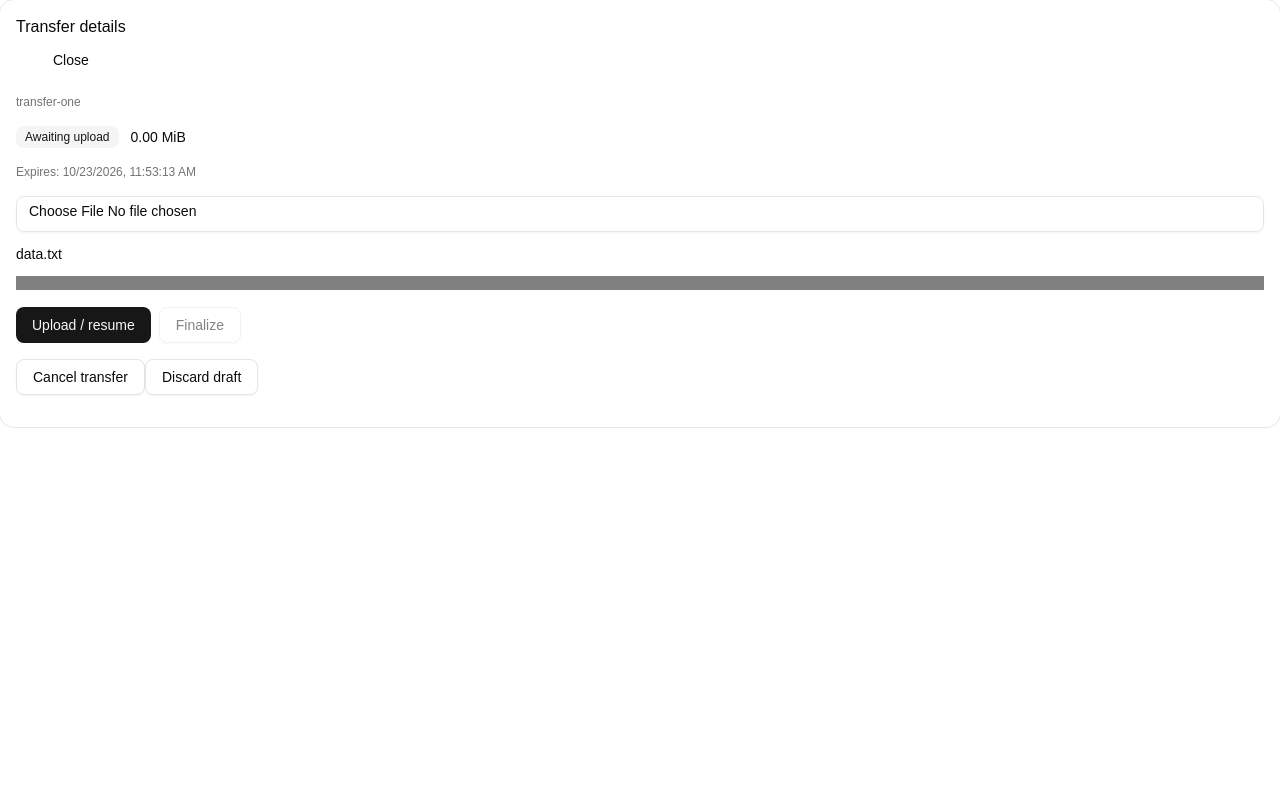
Test: pauses locally without canceling the durable transfer or finalizing it
Click the button "Upload / resume" at (83, 325), box [16, 307, 151, 343]
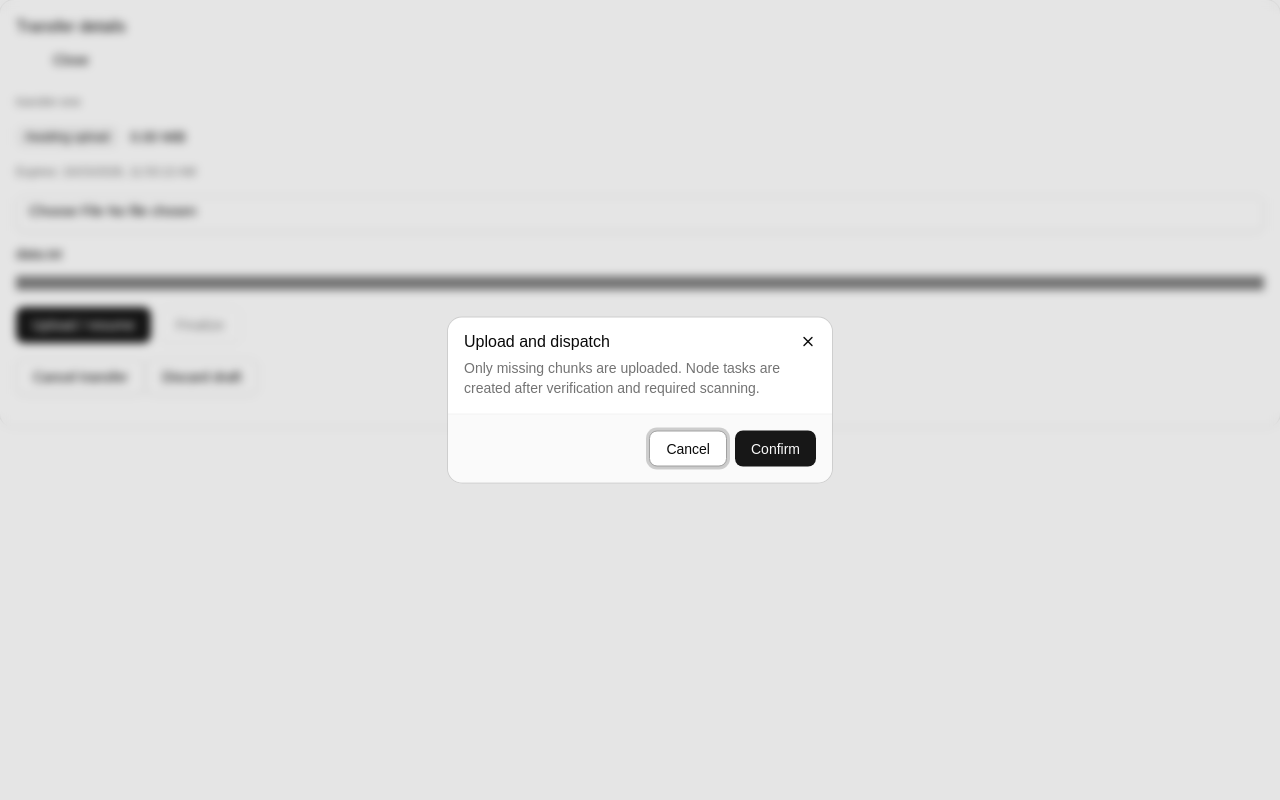
Click the button "Confirm" at (776, 448), box [735, 430, 816, 466]
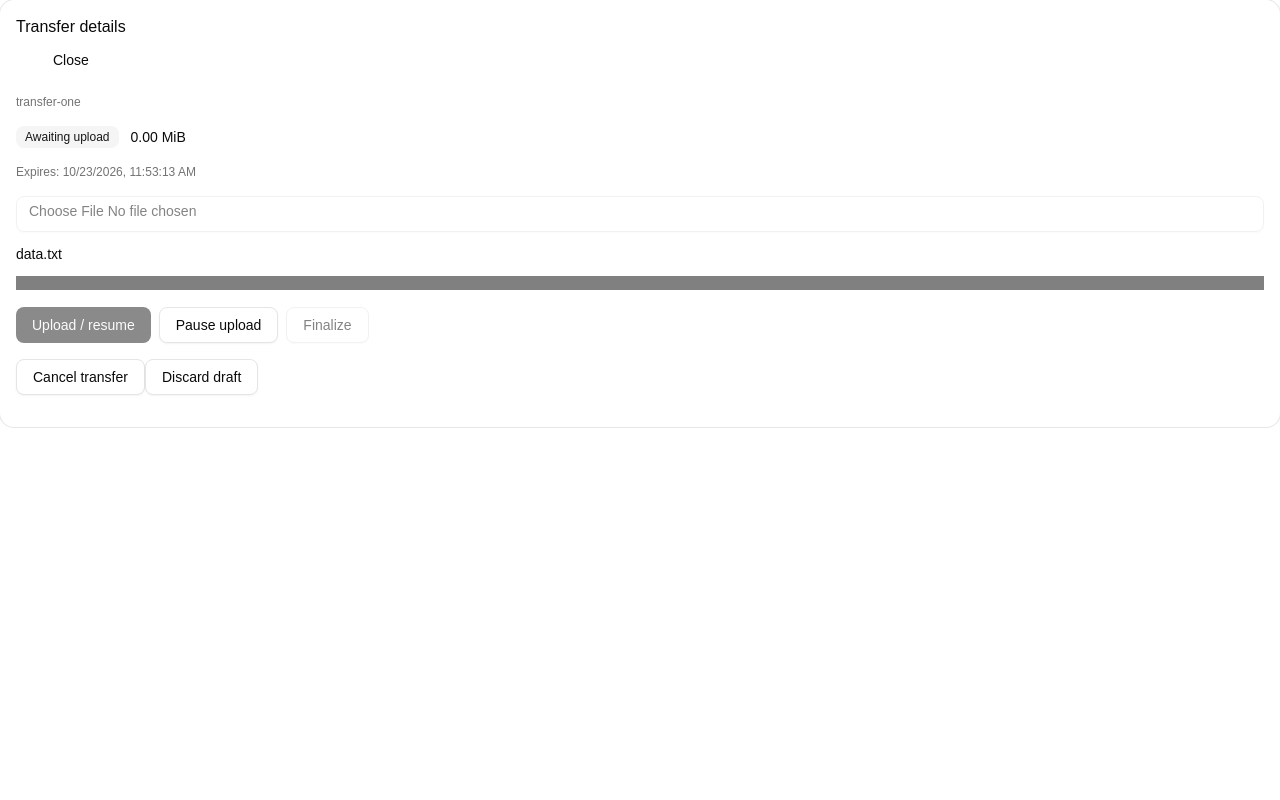
Click the button "Pause upload" at (218, 325), box [159, 307, 278, 343]
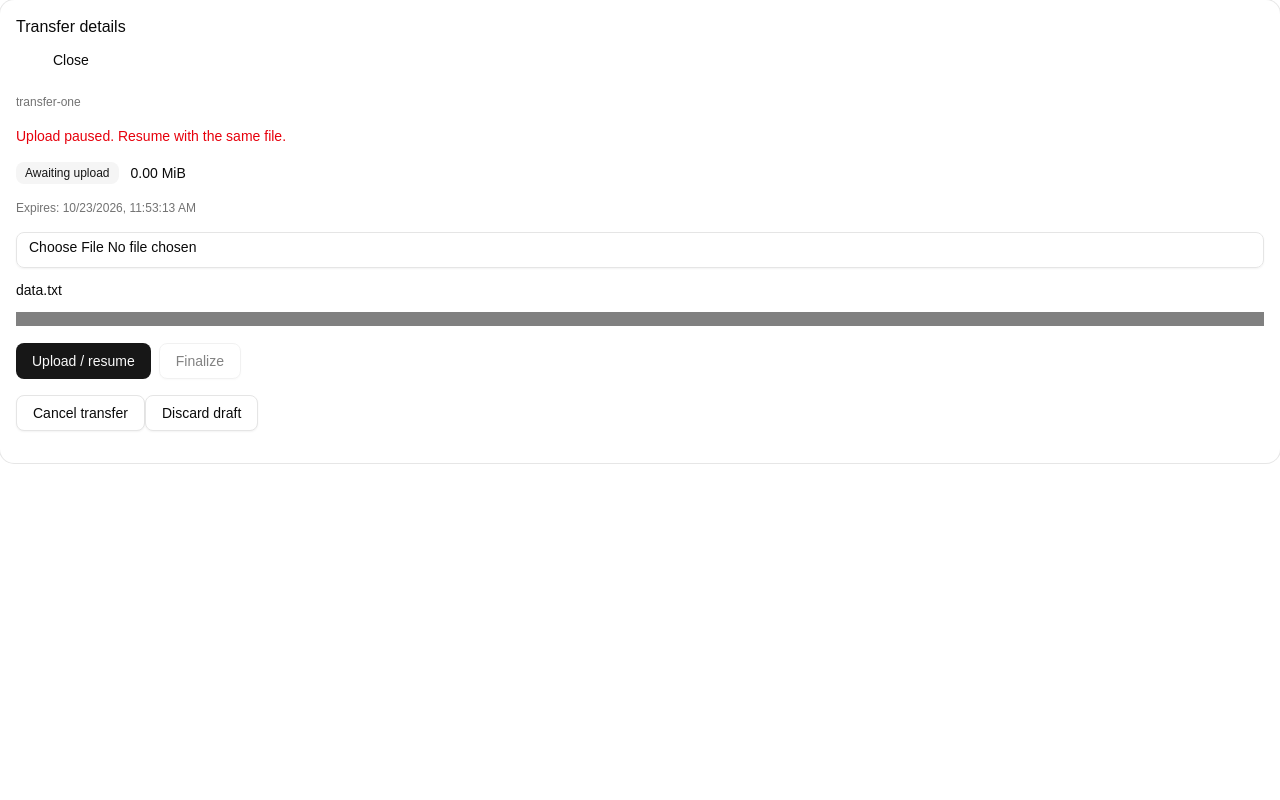
Expected: the message shows "Upload paused", [16, 128, 286, 144]
